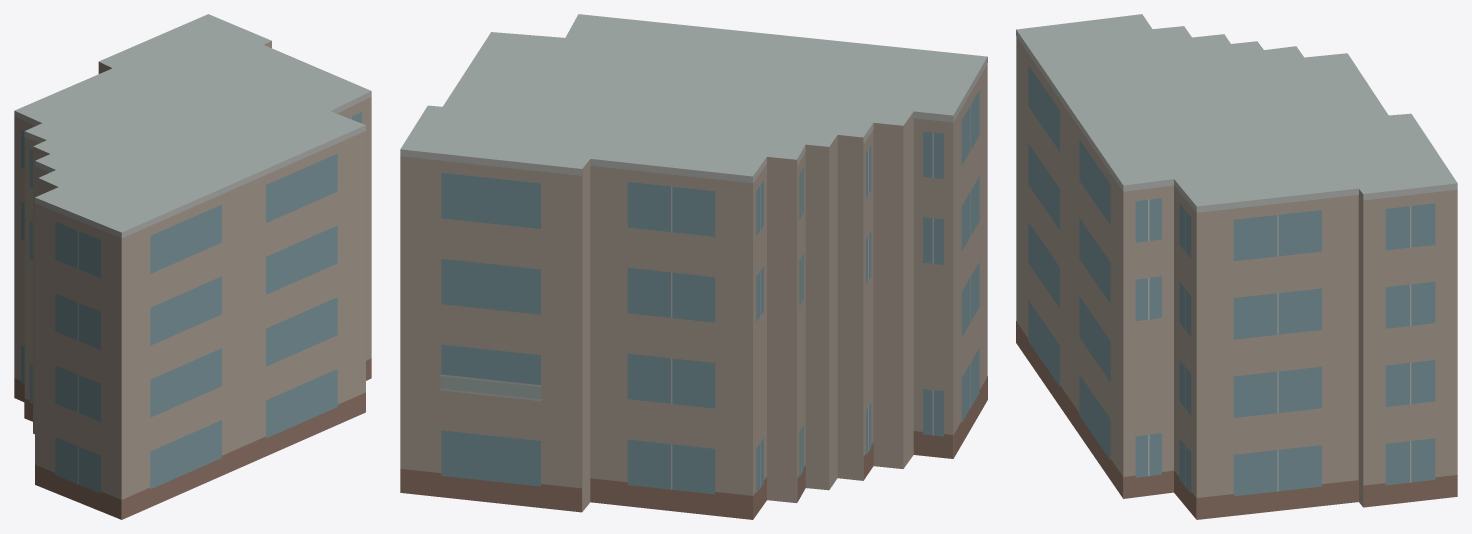
File: survey-upis-33040408.glb
The picture shows the model from 3 angles, left to right: view 1: azimuth 30°, elevation 25°; view 2: azimuth 150°, elevation 25°; view 3: azimuth 270°, elevation 25°; orthographic projection. The views are drawn at different scales.
Parts seen in each view (by area): view 1: survey-upis-33040408.tmp; view 2: survey-upis-33040408.tmp; view 3: survey-upis-33040408.tmp.
Part boxes in pixels (x1=…): survey-upis-33040408.tmp: x1=14, y1=14, x2=371, y2=519; survey-upis-33040408.tmp: x1=400, y1=14, x2=987, y2=519; survey-upis-33040408.tmp: x1=1016, y1=14, x2=1457, y2=519.
Size of the model in its own units: 16.08 by 12.2 by 15.59.
